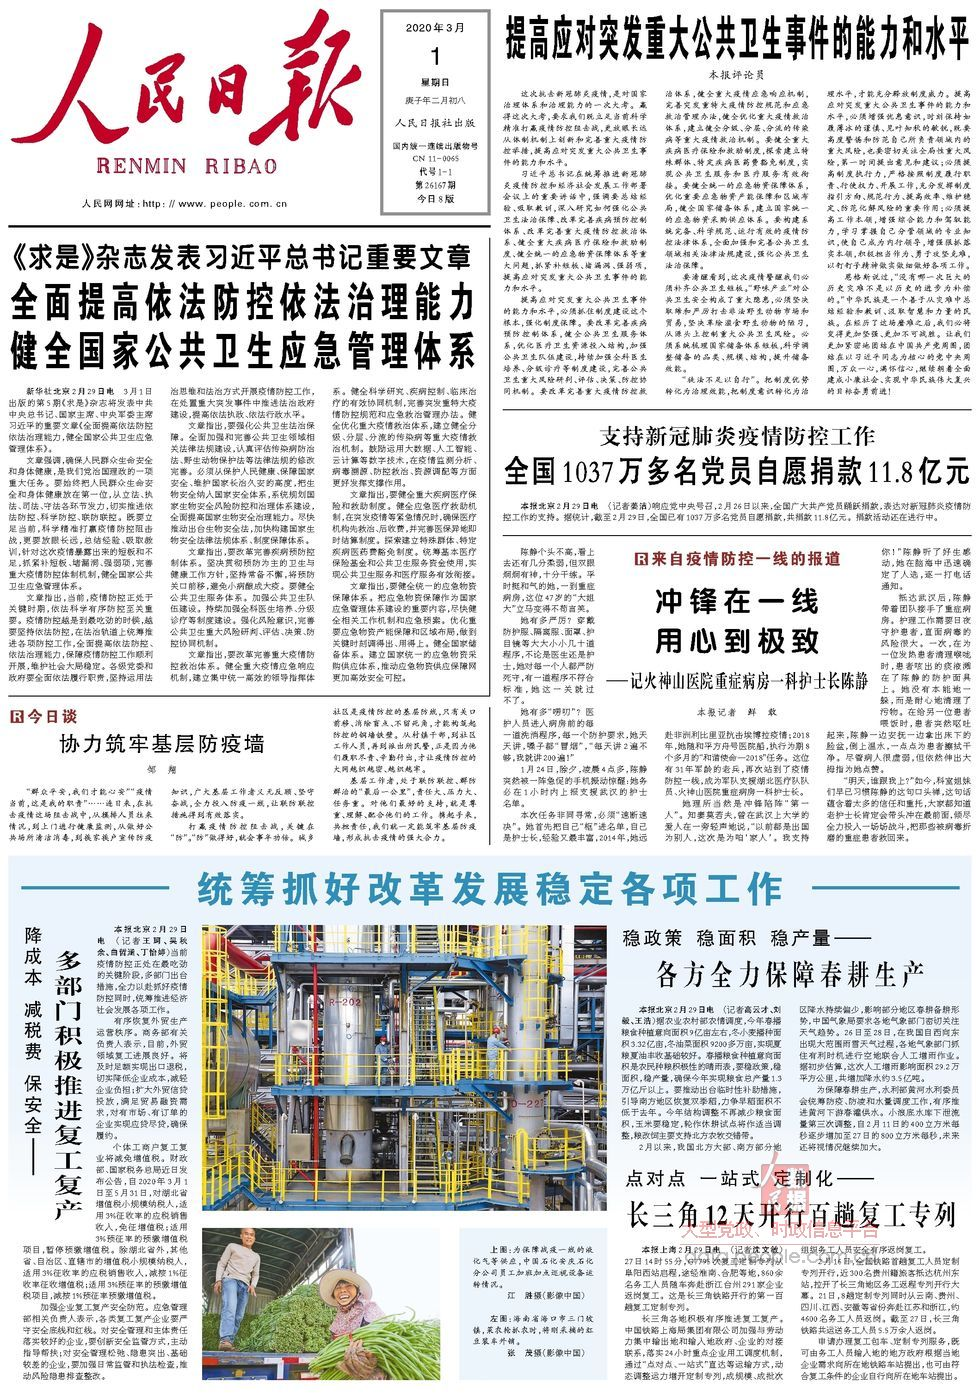pic: (196, 919, 612, 1216), (197, 1222, 447, 1385)
